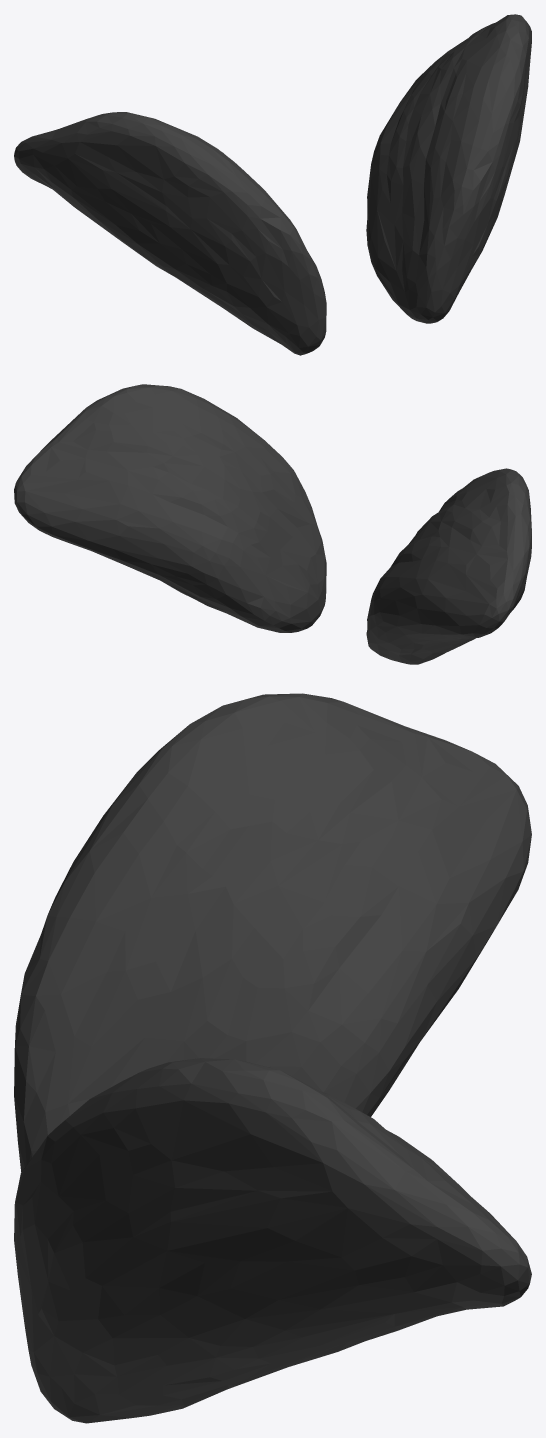
Rendered from m_pterygoid_med.glb.
3 renders of one model, top to bottom at view 1: azimuth 30°, elevation 25°; view 2: azimuth 150°, elevation 25°; view 3: azimuth 270°, elevation 25°, orthographic. The views are drawn at different scales.
Visible parts, largest first — view 1: m_pterygoid_med; view 2: m_pterygoid_med; view 3: m_pterygoid_med.
Part boxes in pixels (box(x1,y1,x2,y2)): m_pterygoid_med: box(14, 14, 531, 355); m_pterygoid_med: box(14, 384, 531, 664); m_pterygoid_med: box(14, 693, 531, 1423).
Bounding box in the file's own units: 0.0019 × 0.000874 × 0.000865.
1 material, 1 textured.
